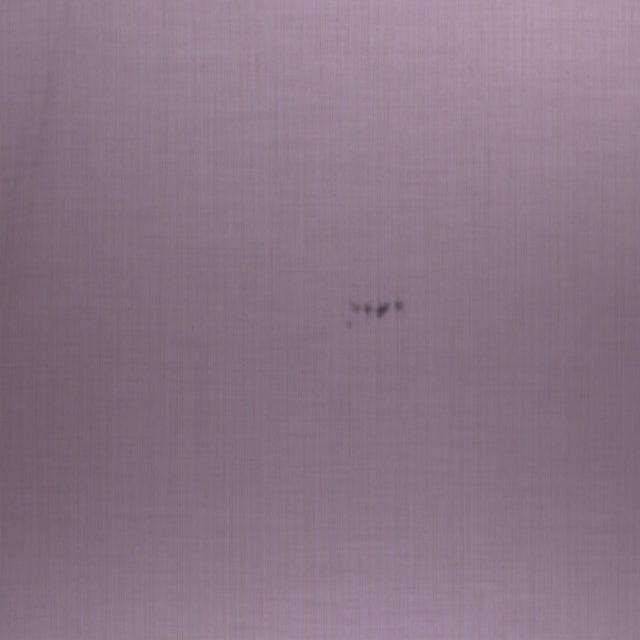dirty: (345, 295, 406, 324)
